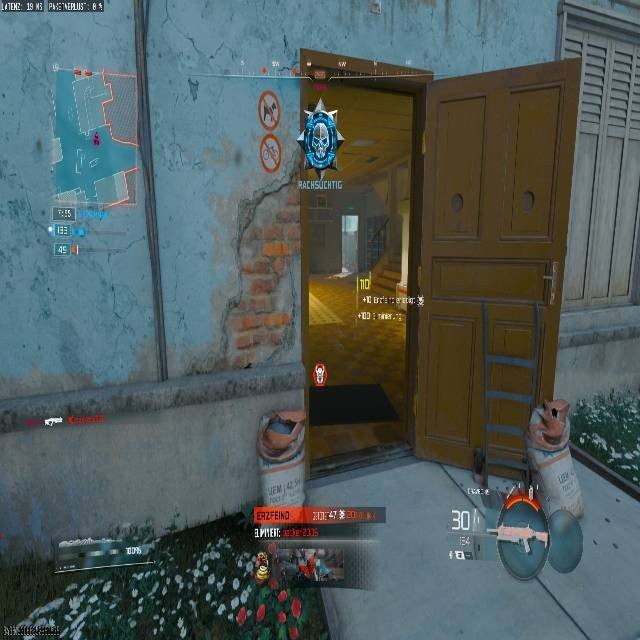head: (525, 399, 570, 449)
player: (524, 398, 587, 572)
